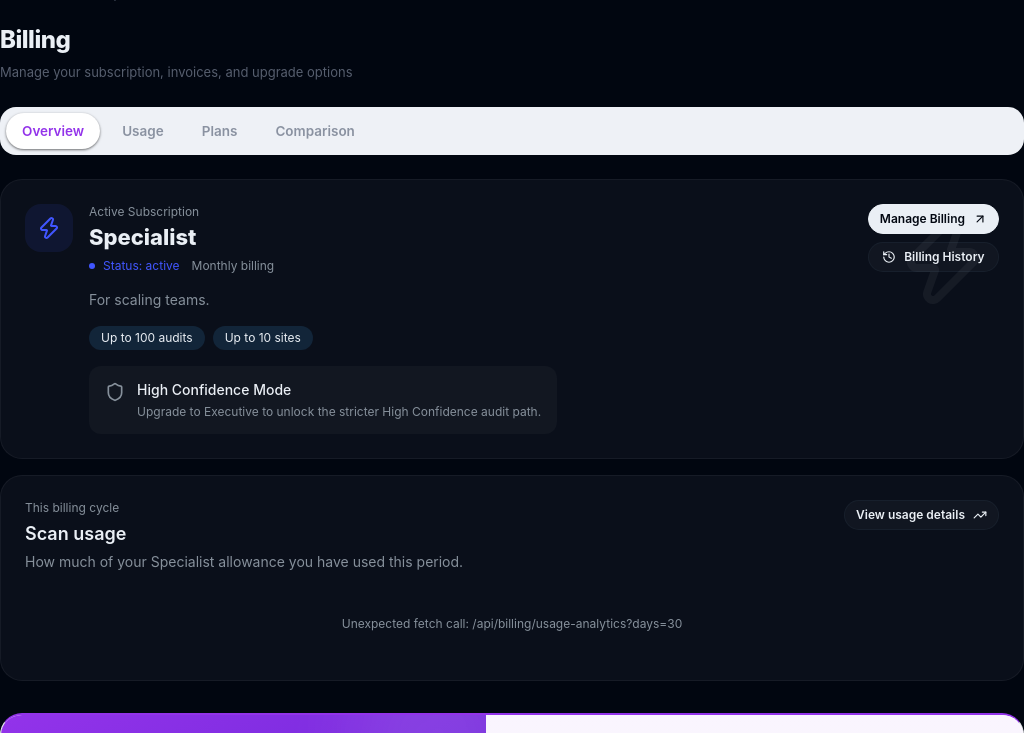
BillingPage › renders canonical plan entitlements from the billing API instead of stale hard-coded copy
Expected: the text "Active Subscription" is shown, [89,204,199,218]
Click the tab "Plans".
click(220, 130)  # box [186,112,253,148]
(page scrolled)
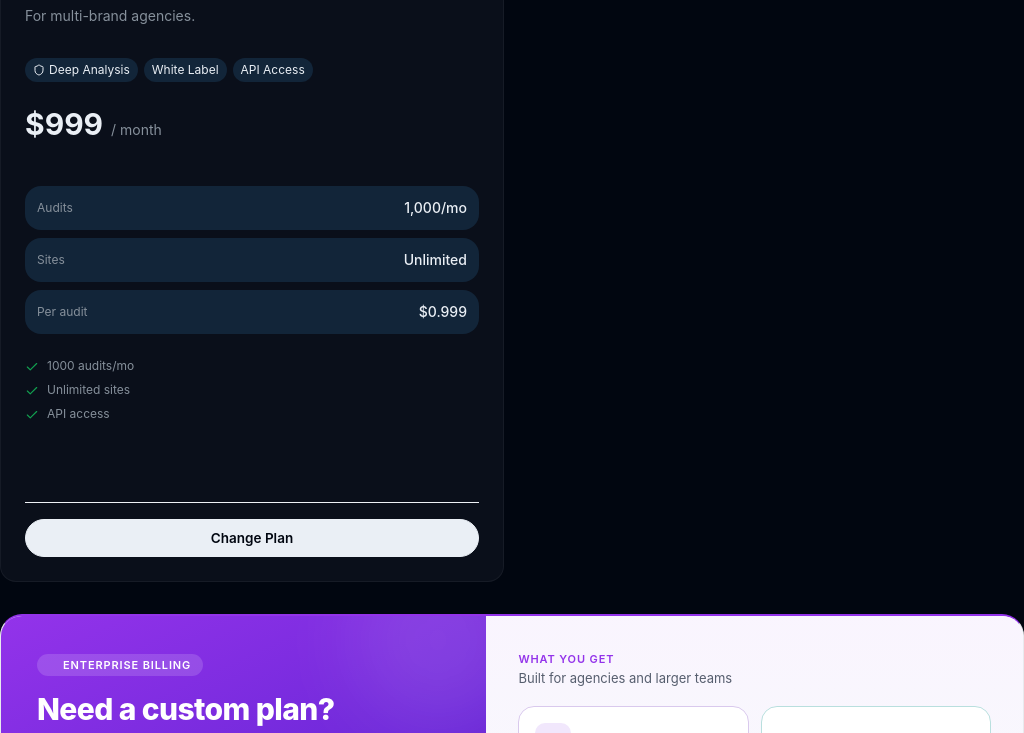
Now the text "1000 audits/mo" is shown, box [47,358,134,374]
